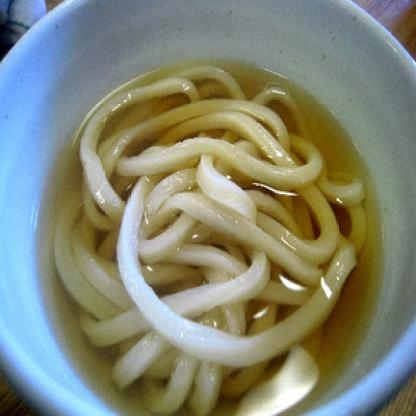Noodles: (52, 66, 367, 414)
